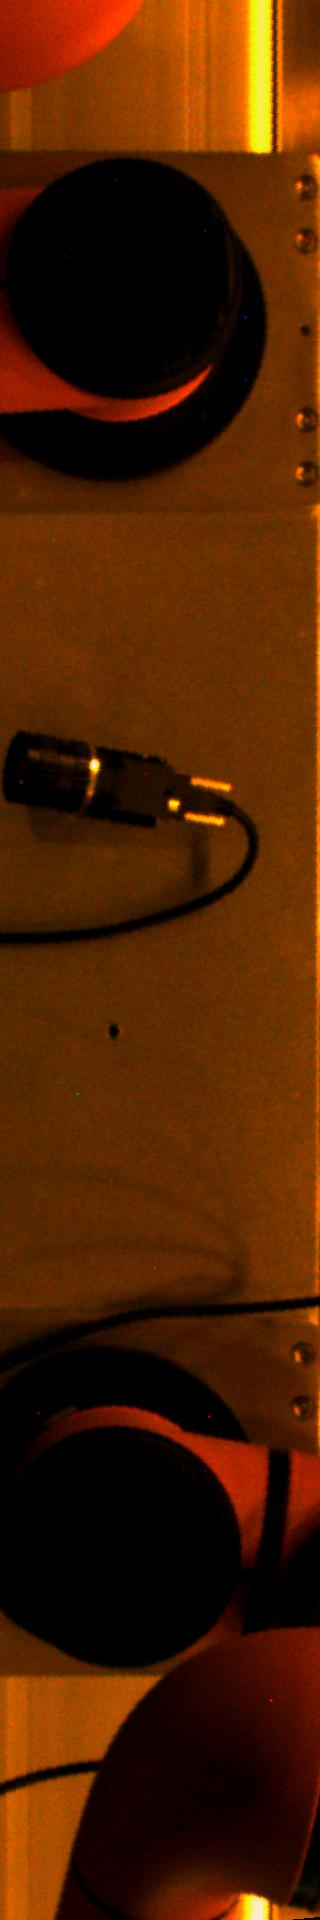keyPoint_2: (98, 1016, 128, 1046)
